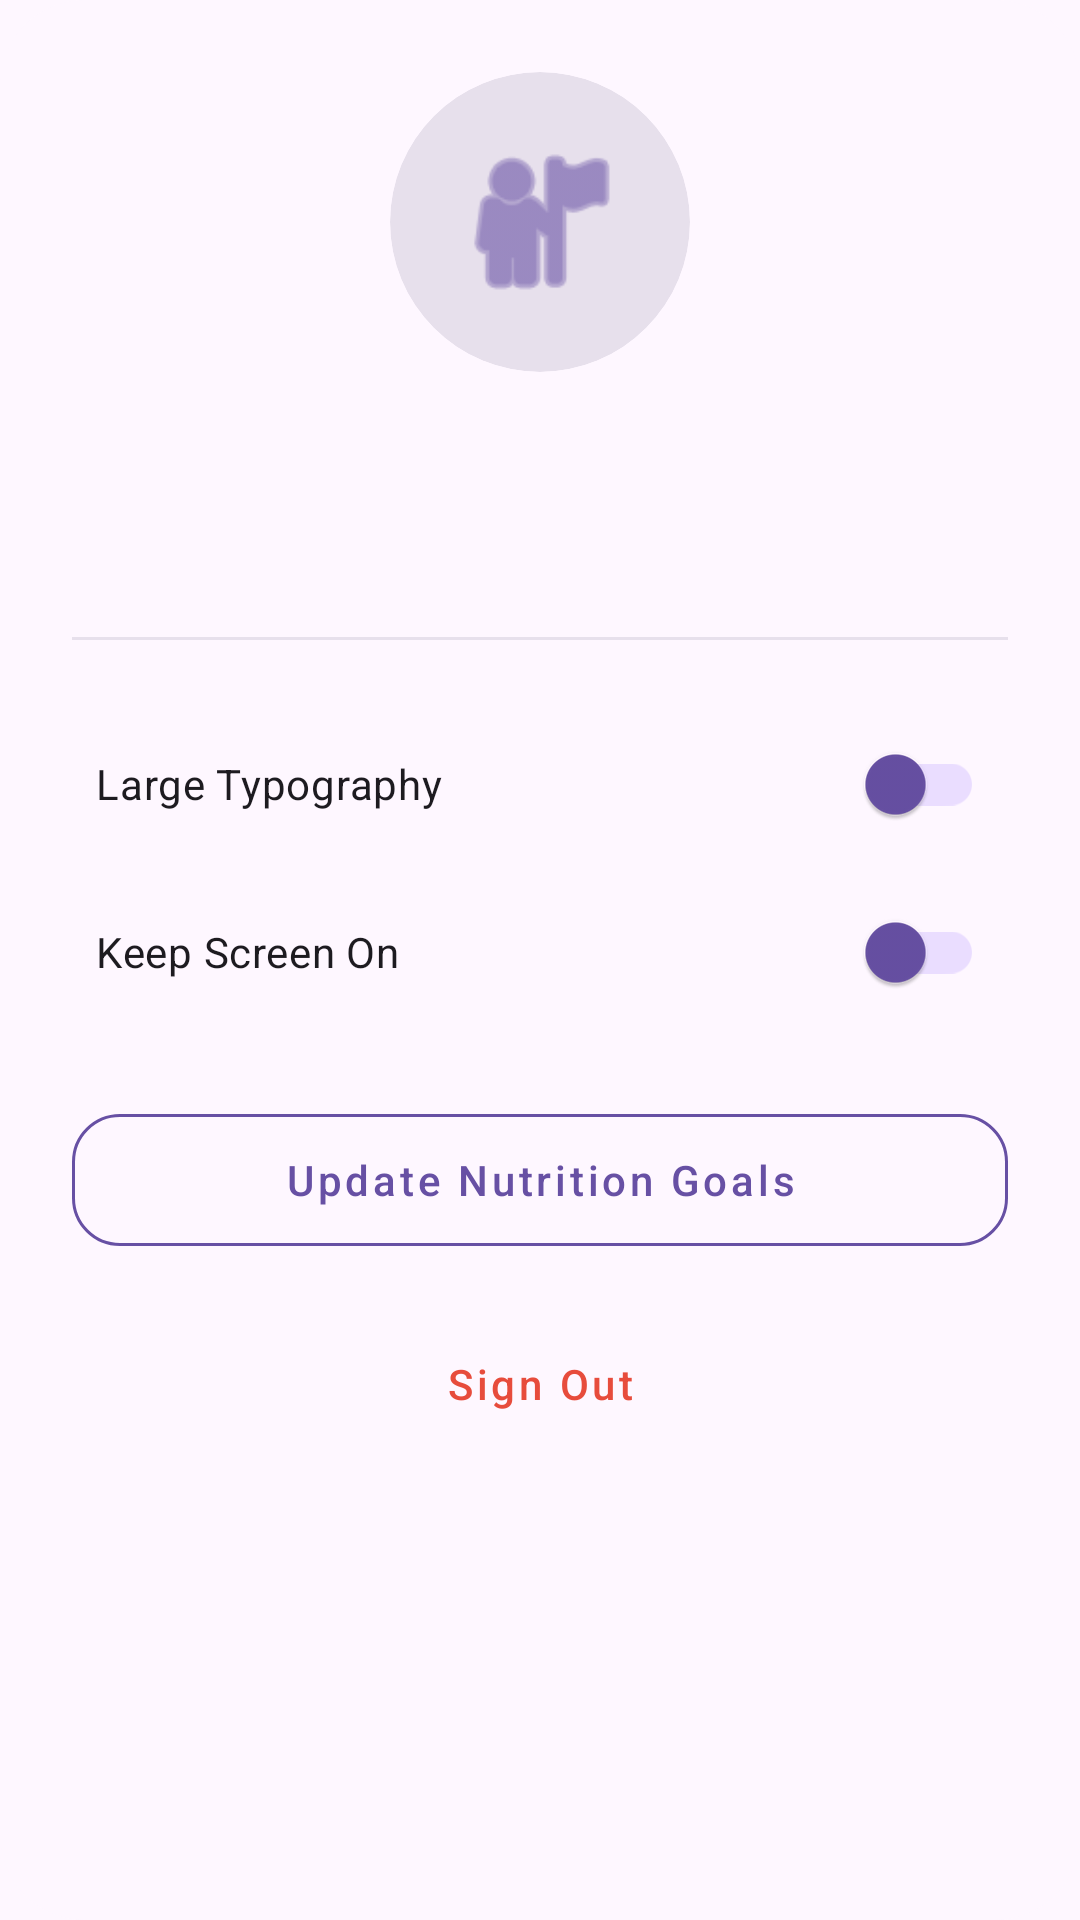

Locate icon controls on the screen. Image size 1080 × 1920, boxes as region(x1, y1, x2, y2).
Profile: region(473, 154, 610, 290)
